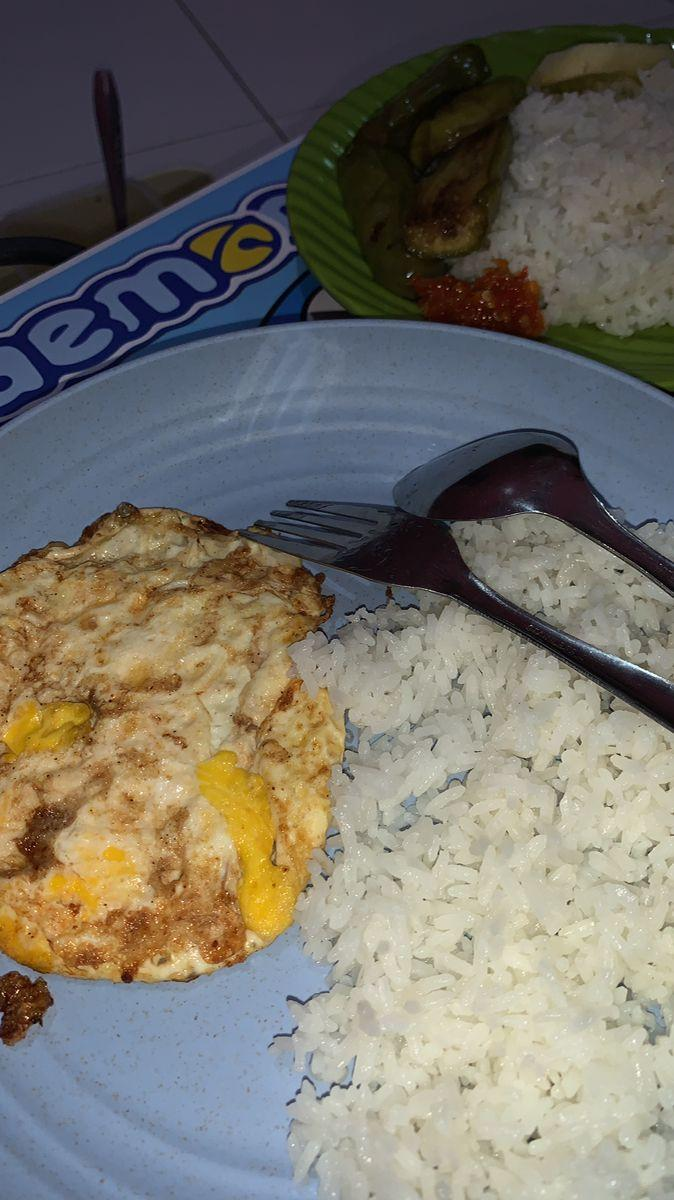makanan_berpati: (375, 752, 672, 1100)
telur: (0, 571, 241, 905)
